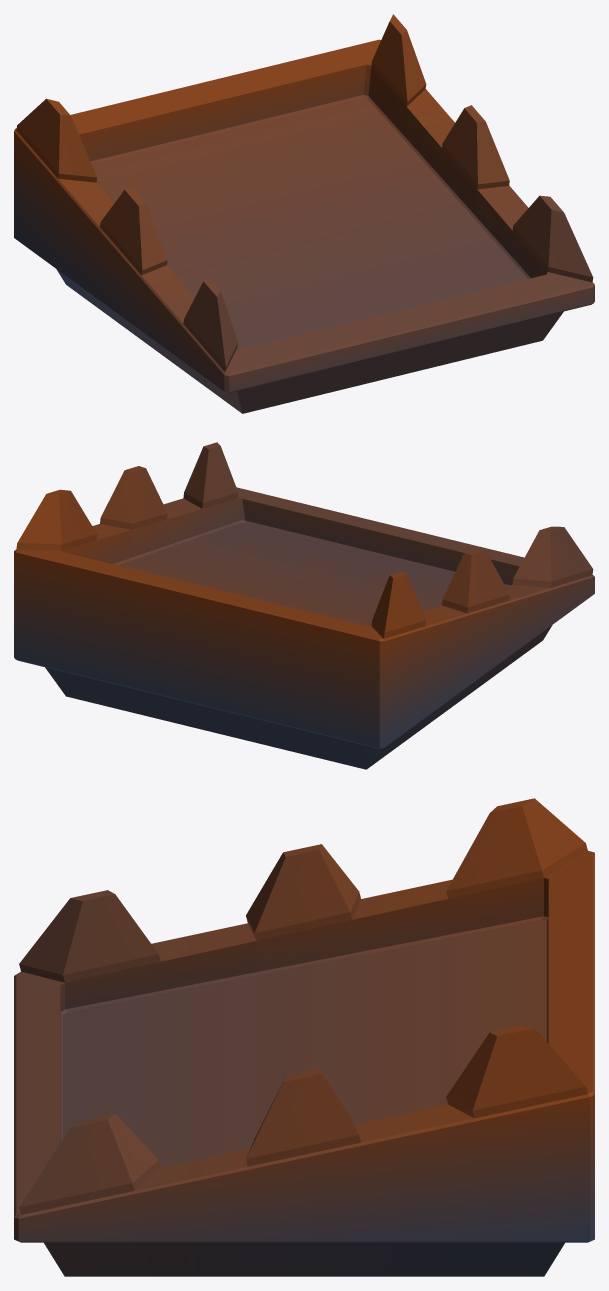
File: SM_Vessel.fbx
3 renders of one model, top to bottom at view 1: azimuth 30°, elevation 25°; view 2: azimuth 150°, elevation 25°; view 3: azimuth 270°, elevation 25°, orthographic. The views are drawn at different scales.
Visible parts, largest first — view 1: Alas Tile; view 2: Alas Tile; view 3: Alas Tile.
Boxes of the visible parts, x1,y1,x2,y2 form: Alas Tile: [14, 14, 594, 413]; Alas Tile: [14, 442, 594, 769]; Alas Tile: [14, 798, 594, 1276].
Size of the model in its own units: 12 by 6.01 by 12.
1 material, 1 textured.
